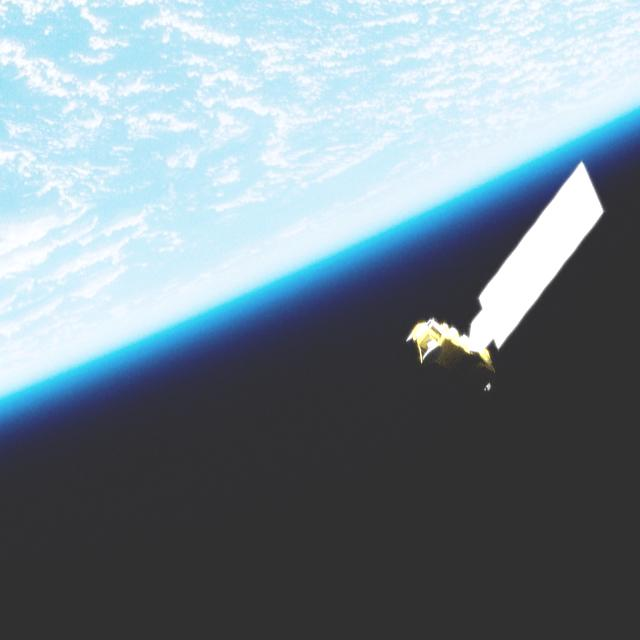satellite: (392, 157, 625, 423)
